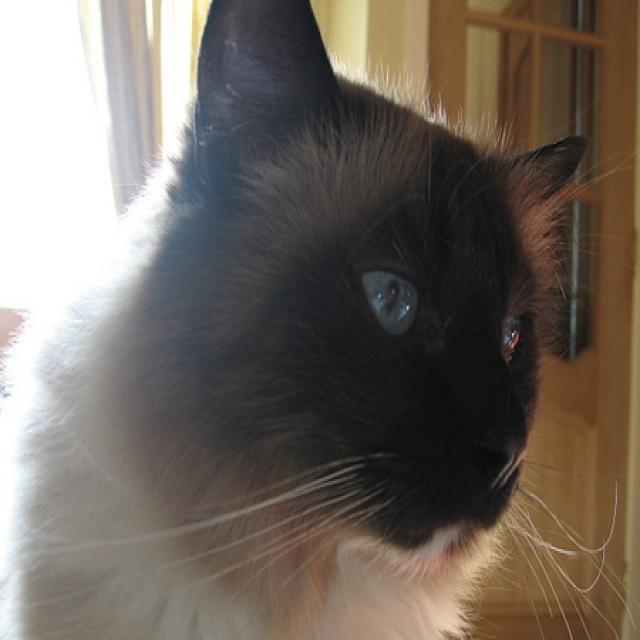Birman: (0, 0, 592, 640)
